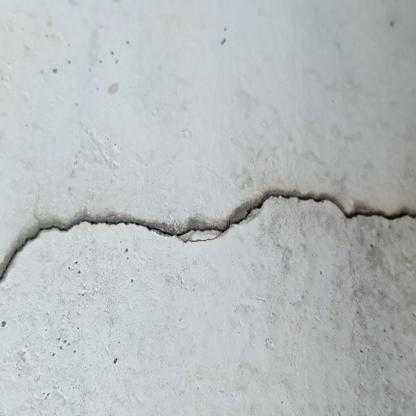crack: (1, 188, 415, 284)
